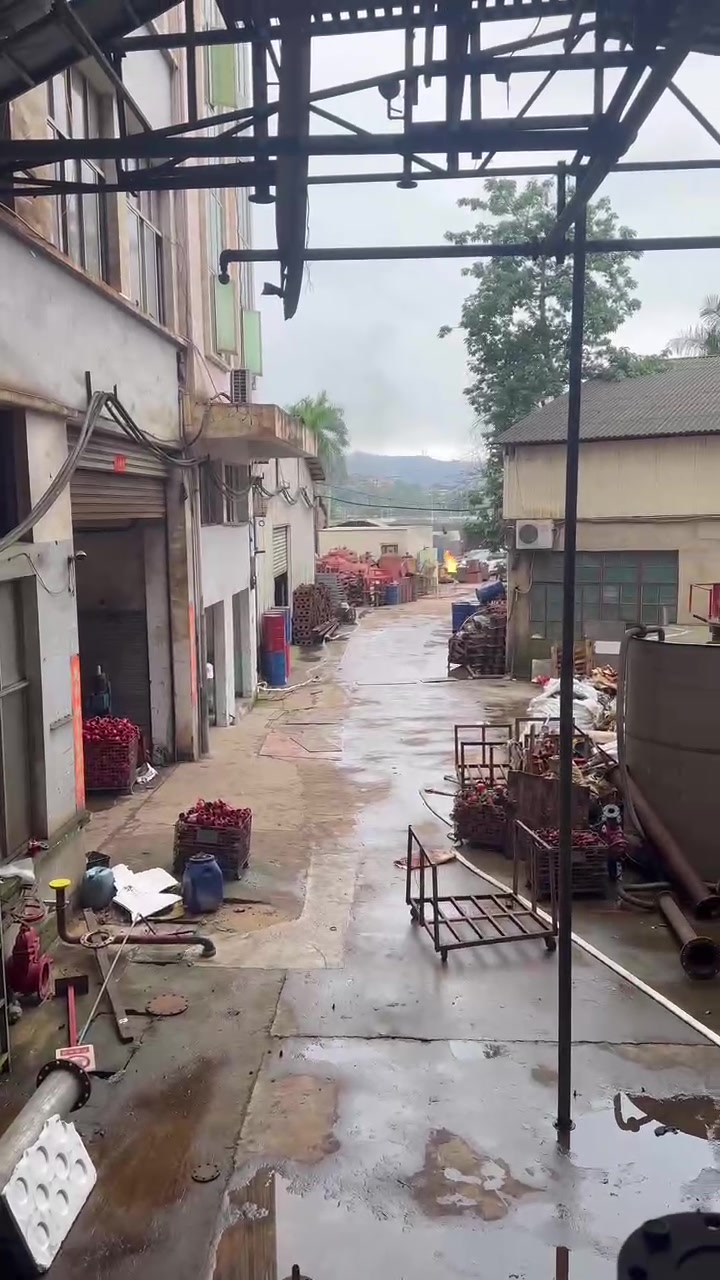fire: (443, 549, 456, 571)
